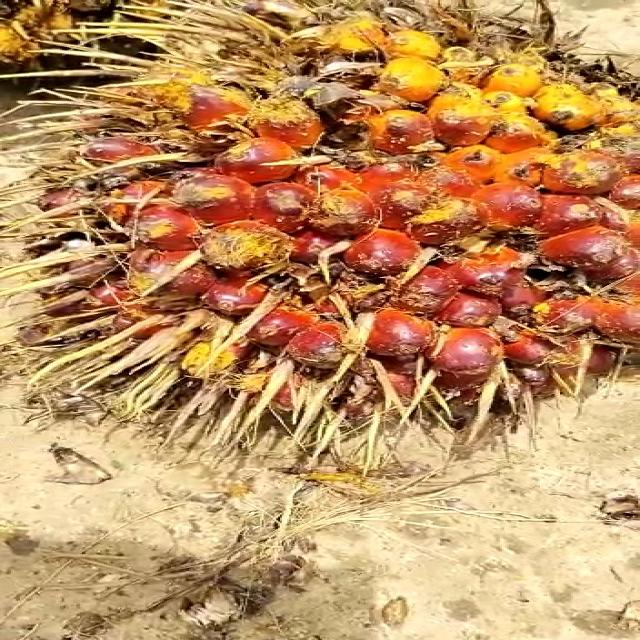palm oil: (34, 0, 640, 439)
